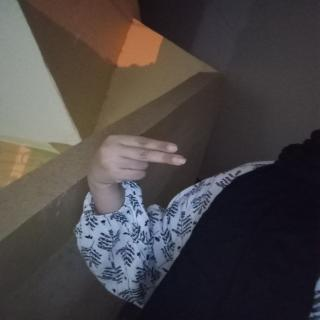AYN: (81, 132, 202, 197)
